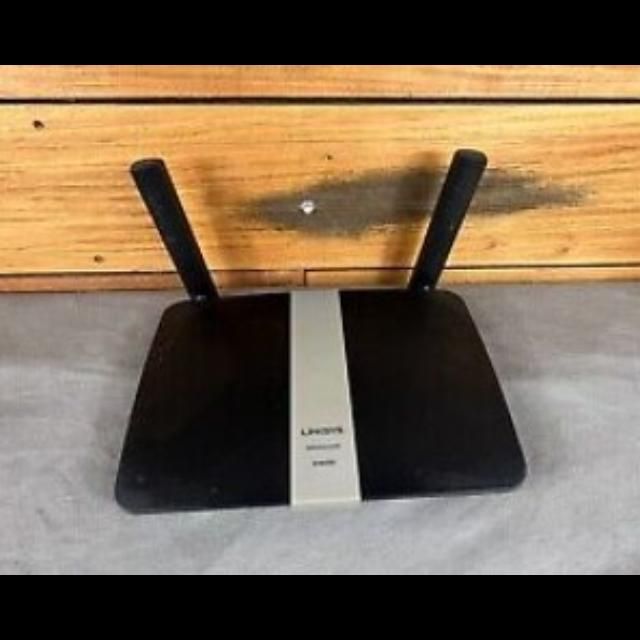Router: (112, 149, 528, 515)
